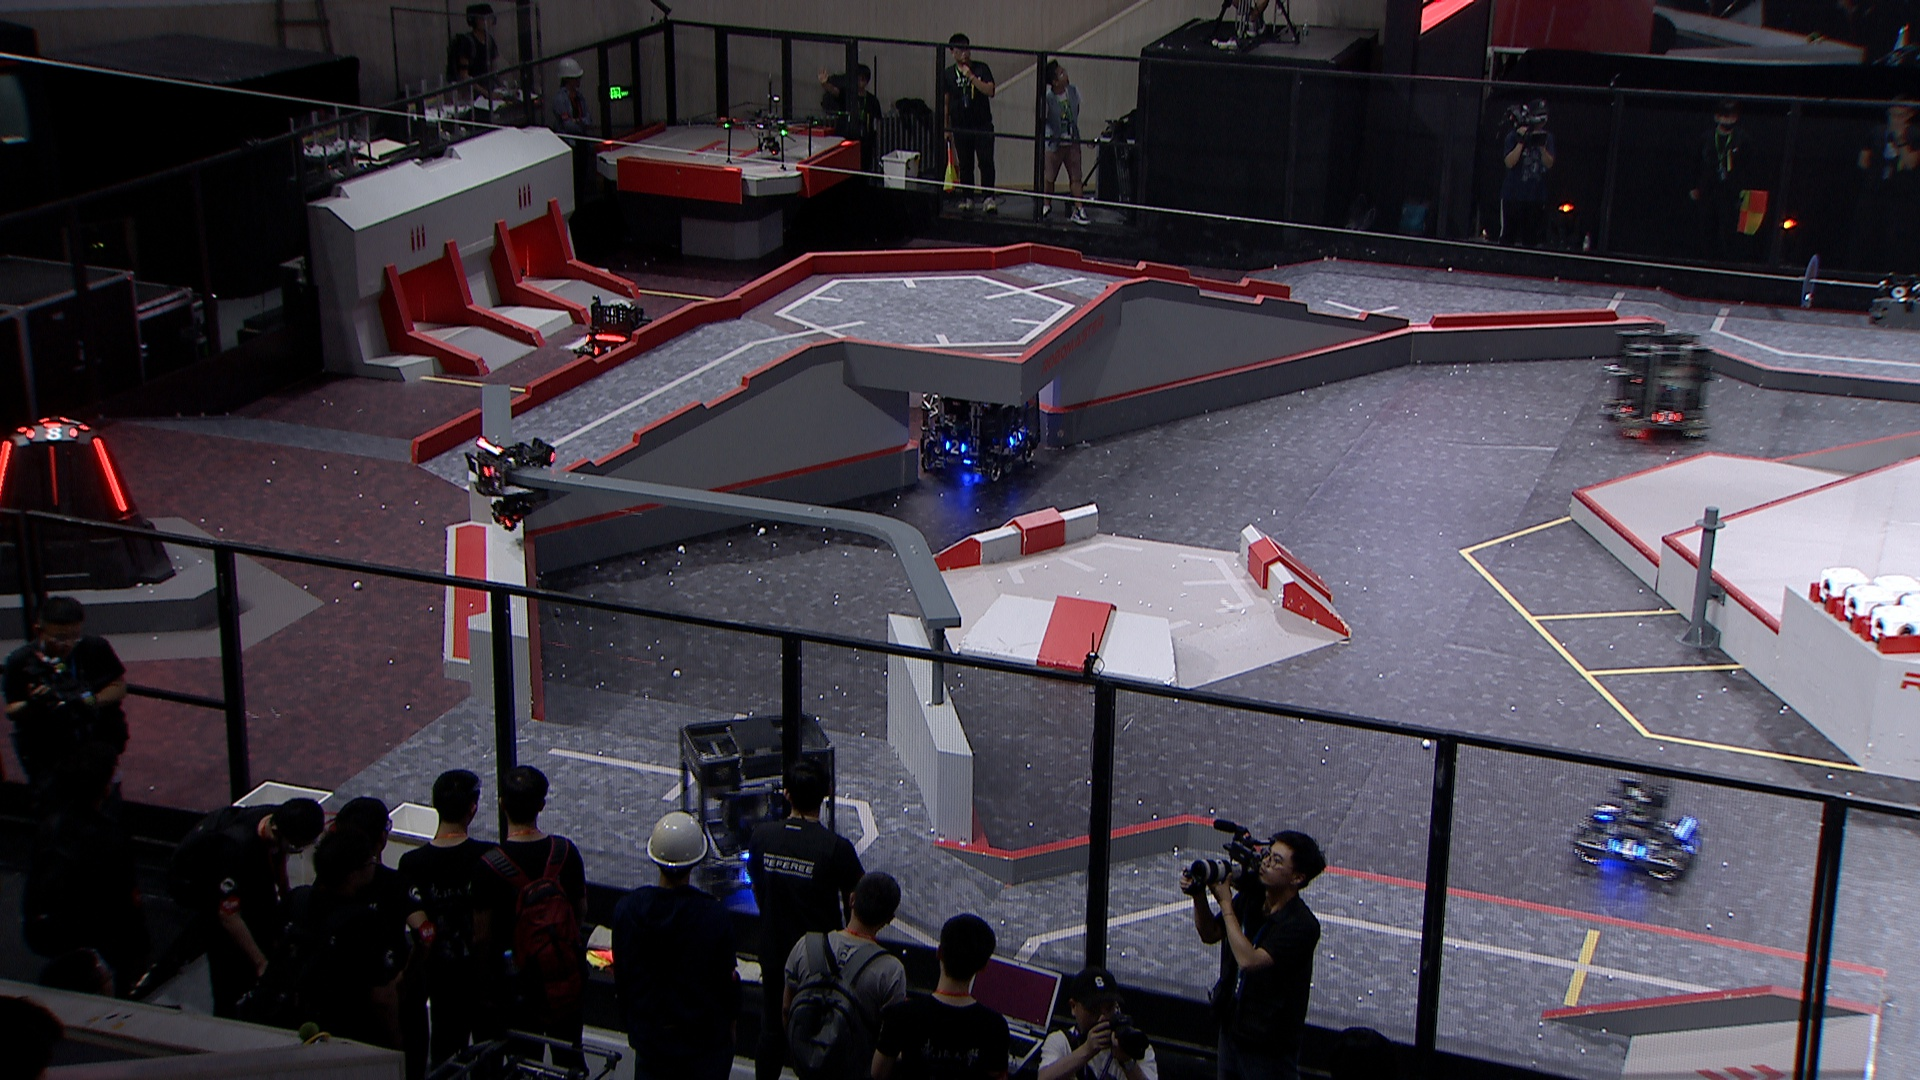armor: (92, 438, 128, 514), (29, 425, 78, 442), (46, 447, 59, 506), (1609, 839, 1642, 858), (463, 455, 487, 479), (1594, 798, 1617, 818), (1656, 409, 1684, 425), (945, 439, 968, 455), (1685, 835, 1700, 858), (1007, 433, 1025, 450), (1613, 400, 1633, 414), (593, 344, 611, 360)
car: (662, 702, 844, 895), (913, 360, 1044, 488), (1571, 774, 1705, 887), (1604, 328, 1717, 446), (570, 295, 657, 378)
watcher: (460, 429, 558, 529)
